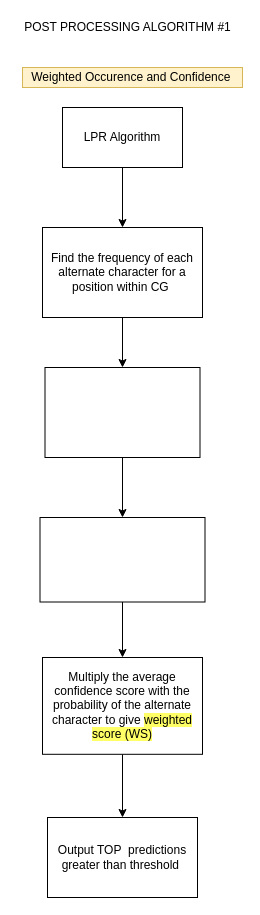
Some shapes in this 260 by 915 pixel diagram are drawn without their labels. Here are the shapes that lost their labels. From the top down, the box of each, then its label:
(44, 366, 200, 458): Find the probability of each alternate character
(39, 516, 205, 602): Find the average Confidence Score for a particular character
